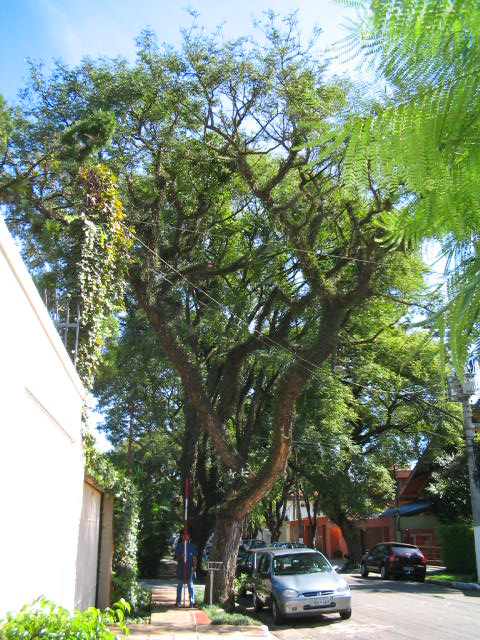stem: (201, 506, 254, 609)
stick: (179, 476, 193, 610)
tree: (122, 5, 400, 609)
